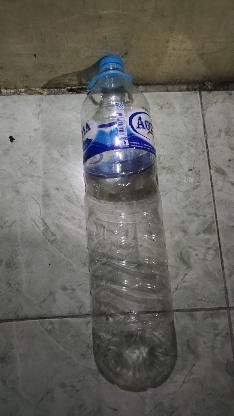Plastic Bottle: (80, 55, 178, 333)
